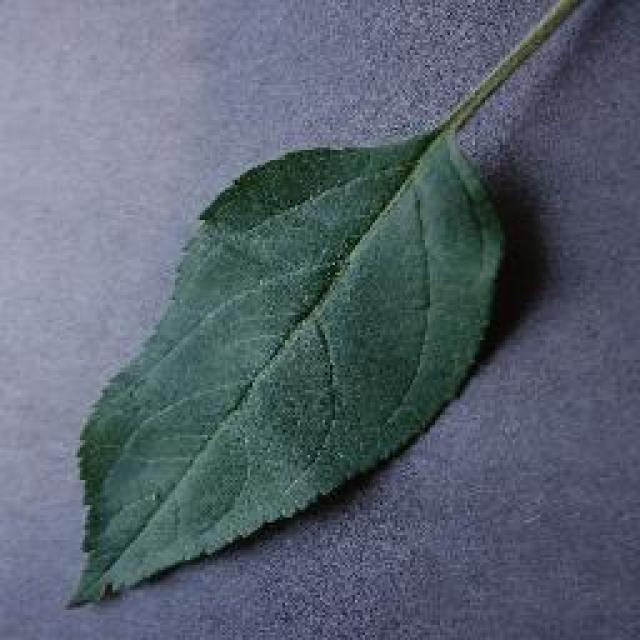apple healthy: (62, 0, 638, 610)
